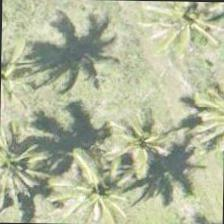Kelapa_Sawit: (92, 96, 184, 188), (52, 148, 145, 223), (142, 0, 223, 62), (0, 125, 53, 217)
